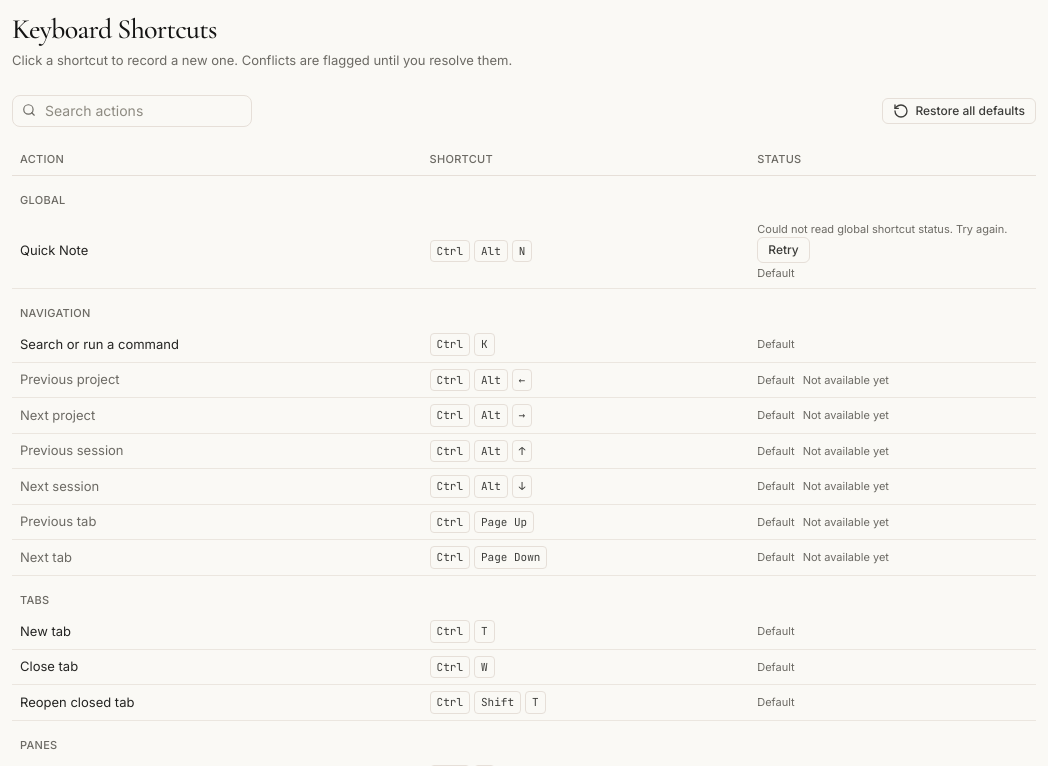
it: shows actual global status and supports explicit reconciliation
Expected: the button with aria-label "Change shortcut for New tab" is enabled, [430,620,495,642]
Expected: the row named "Change shortcut for Quick Note" does not show "Not available yet", [12,214,1036,288]
Click the button with aria-label "Retry global shortcut status": (784, 250) [757,237,810,263]
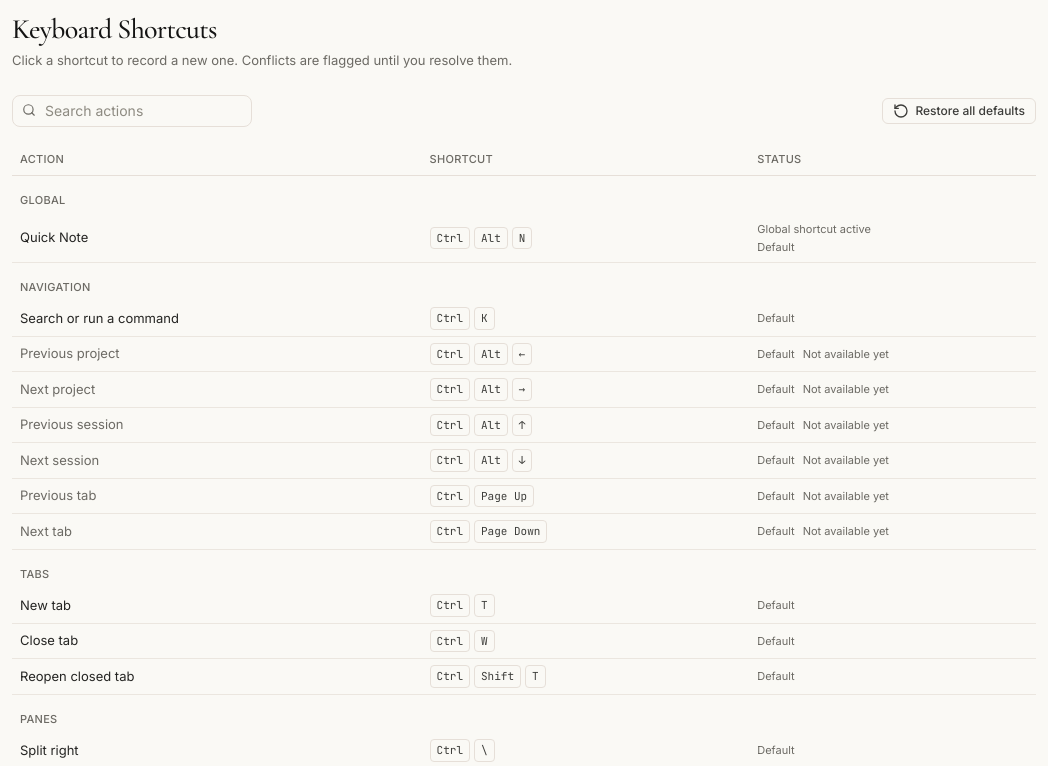
Result: the text "Global shortcut active" is shown at [757,222,871,236]
